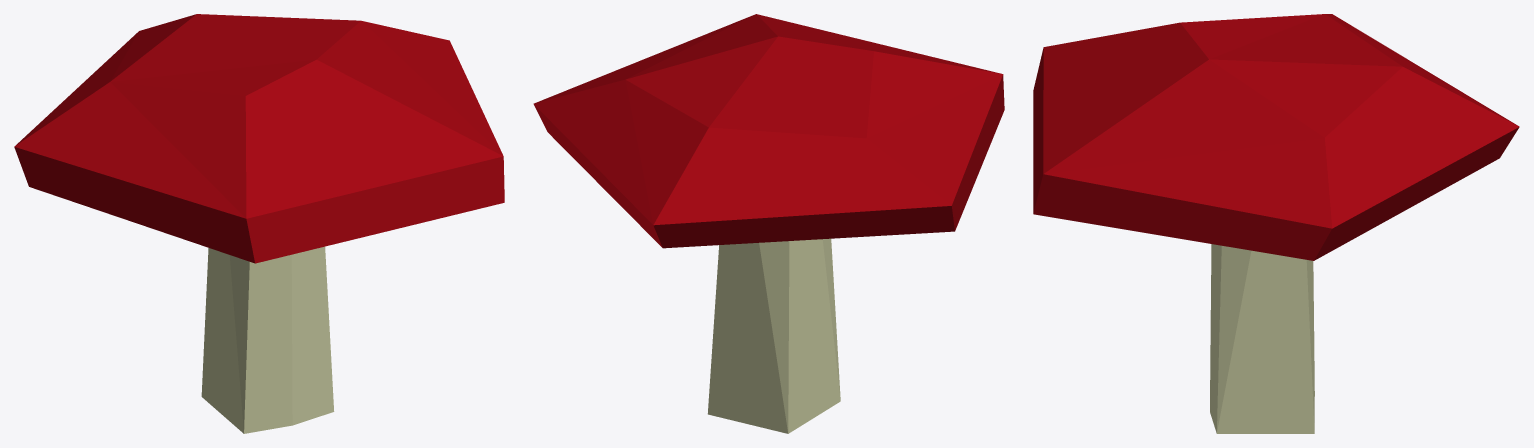
Rendered from nam.glb.
3 views of the same model, side by side, from view 1: azimuth 30°, elevation 25°; view 2: azimuth 150°, elevation 25°; view 3: azimuth 270°, elevation 25° (orthographic). The views are drawn at different scales.
Parts seen in each view (by area): view 1: Cone, Cube; view 2: Cone, Cube; view 3: Cone, Cube.
Part boxes in pixels (x1,y1,x2,y2): Cone: (14,14,504,263); Cube: (201,246,334,433); Cone: (533,14,1004,248); Cube: (707,238,840,433); Cone: (1033,14,1519,260); Cube: (1210,244,1314,433).
Size of the model in its own units: 969 by 767 by 929.
